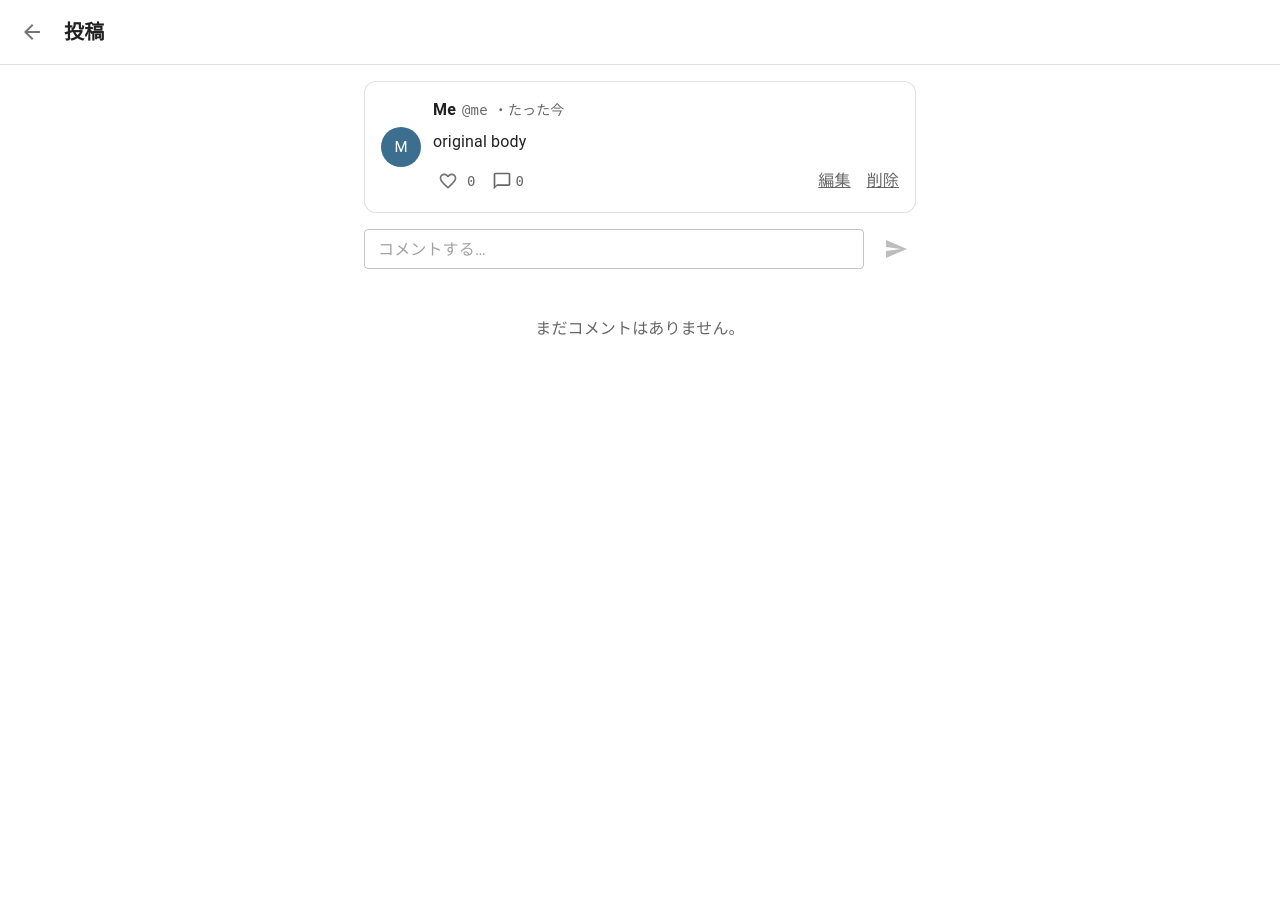
Test case: PostDetailPage › edits the post via the composer dialog
expect the text "original body" is shown: met, box [433, 132, 526, 151]
Click the button "編集" at x=834, y=181, box [818, 169, 851, 193]
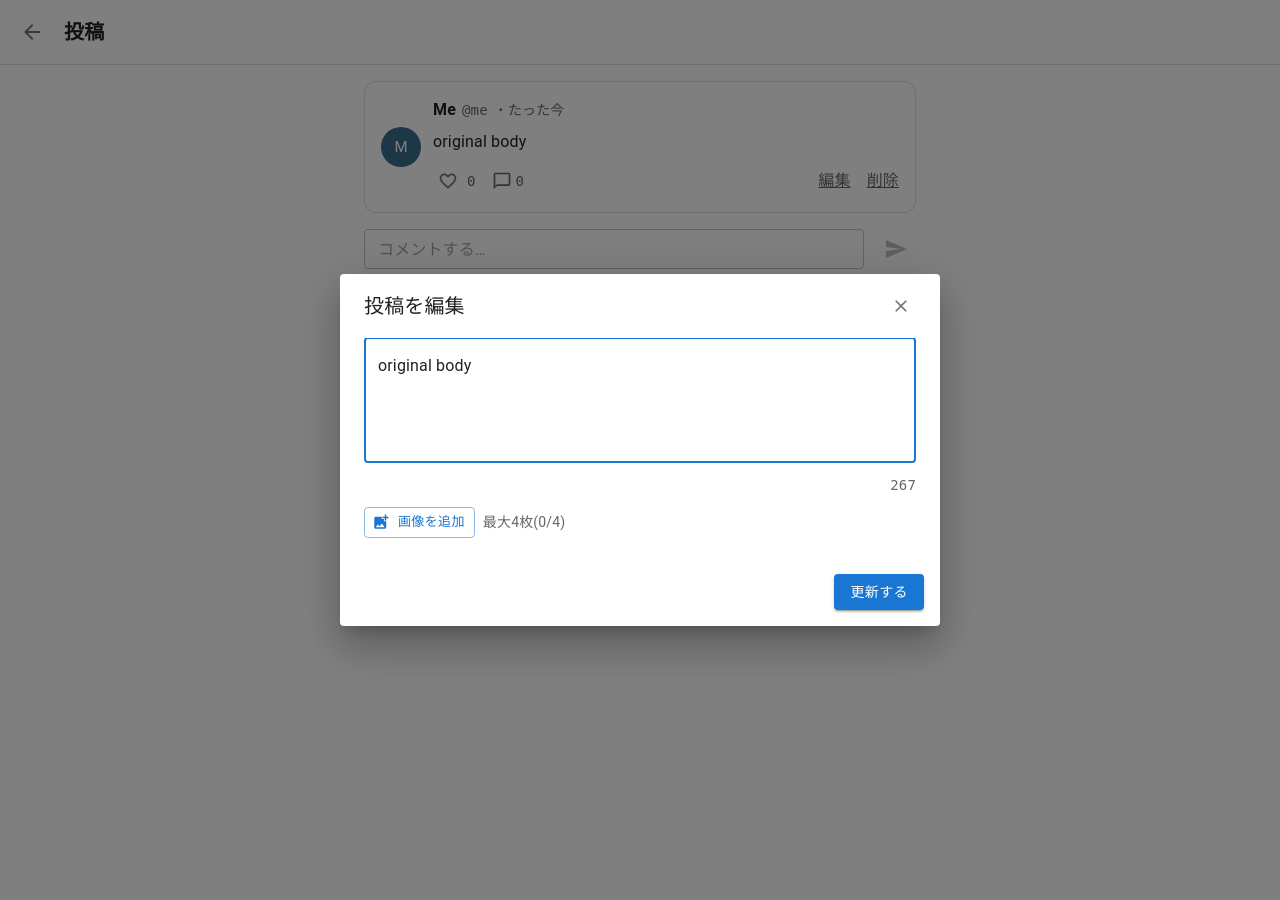
Clear the text box showing "original body" at x=640, y=400, box [378, 354, 902, 446]
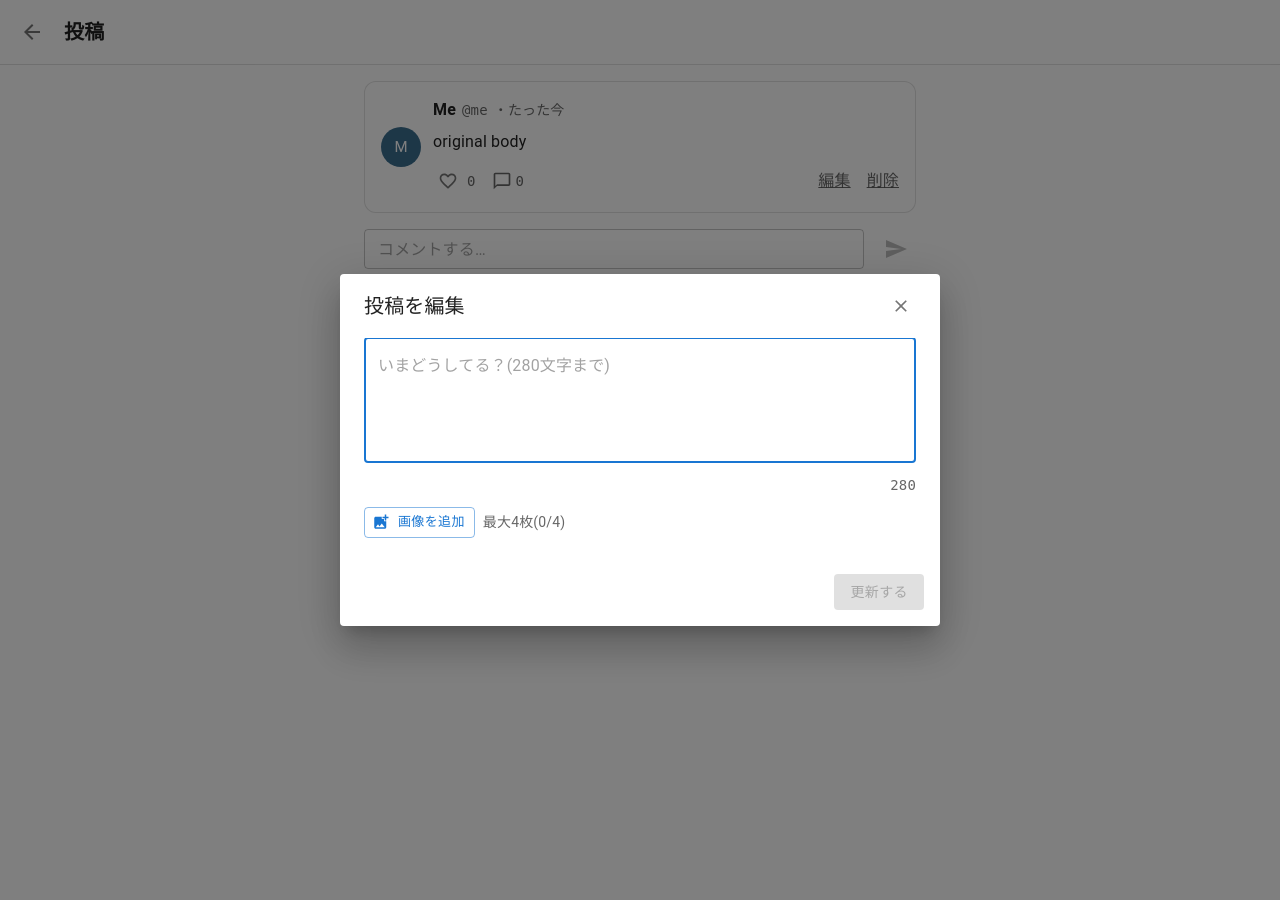
Type keys "updated body"
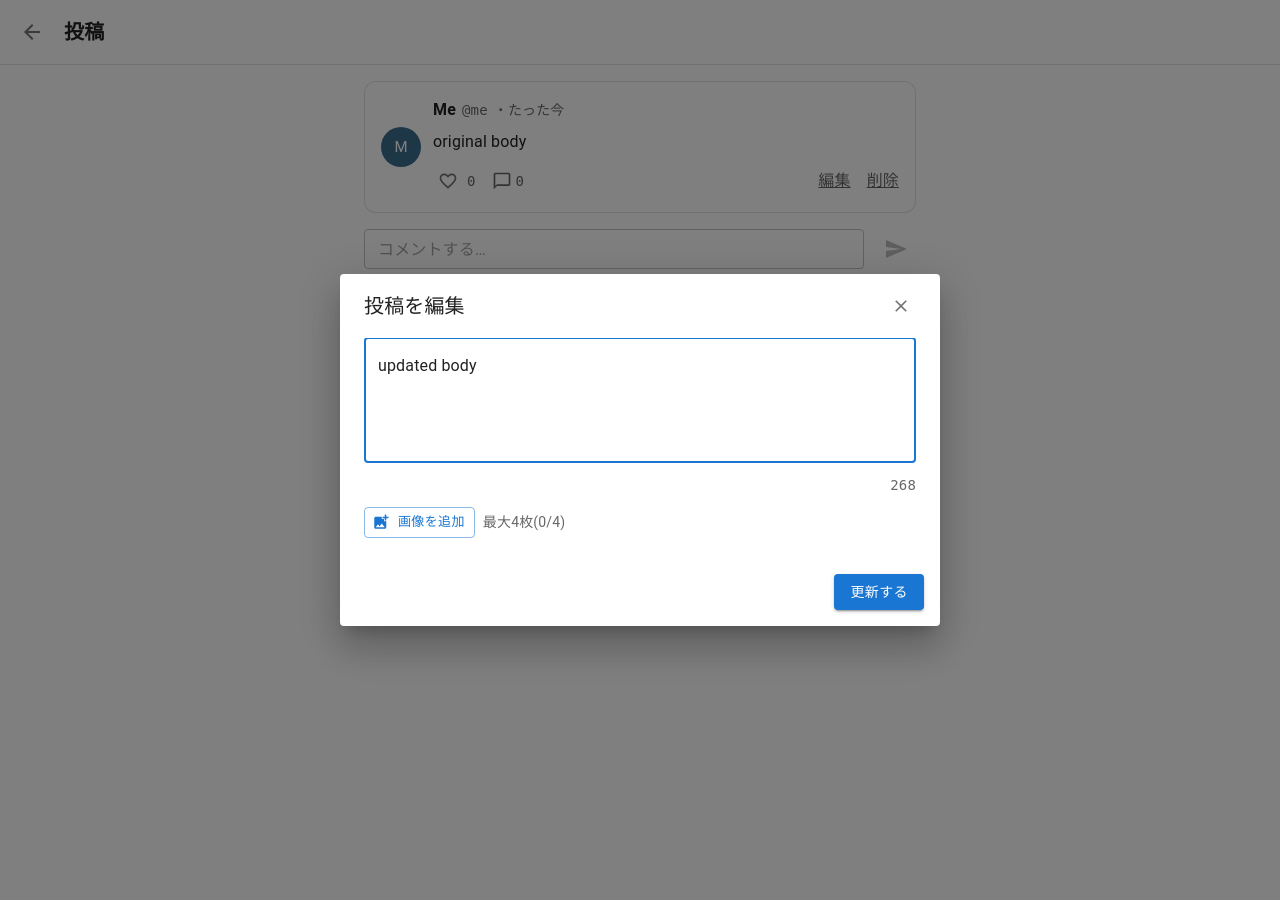
Click the button "更新する" at x=879, y=592, box [834, 574, 924, 610]
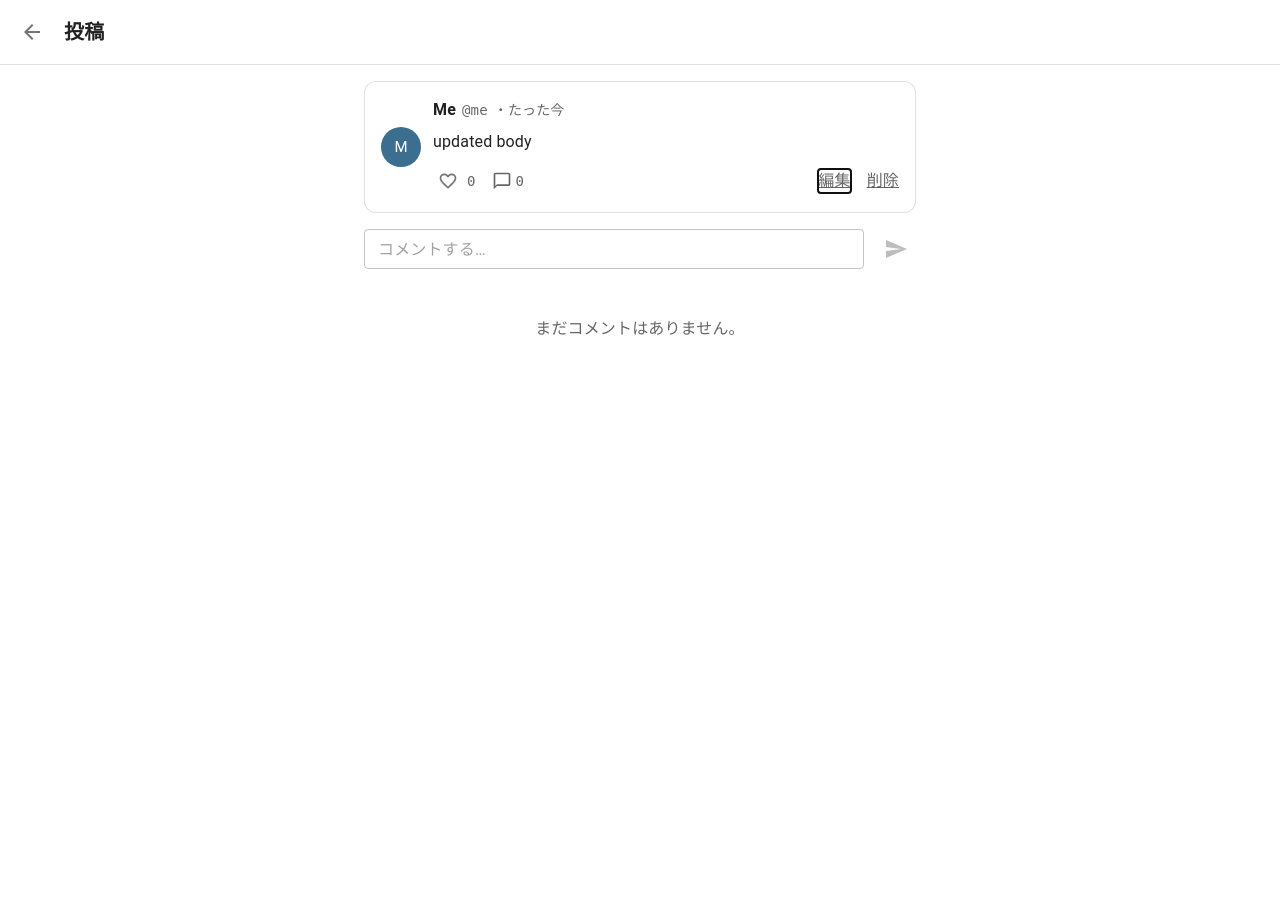
expect the text "updated body" is shown: met, box [433, 132, 532, 151]
